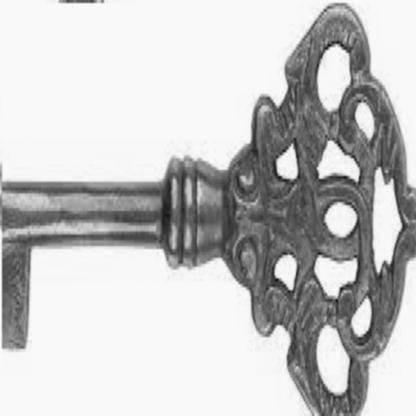key: (2, 3, 416, 416)
